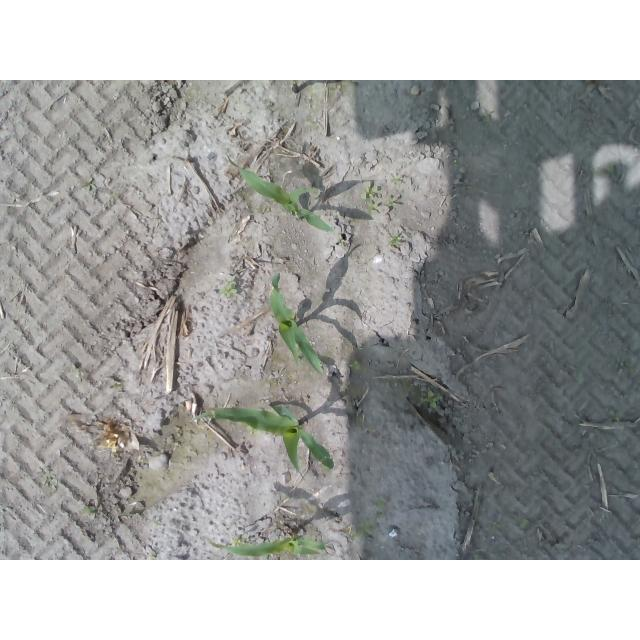Maize: (191, 405, 336, 479), (236, 169, 335, 233), (267, 272, 323, 376), (211, 536, 330, 558)
Weeds: (362, 184, 399, 217), (422, 390, 441, 410), (356, 518, 372, 538), (222, 282, 239, 298), (388, 232, 403, 246), (350, 361, 360, 371)
